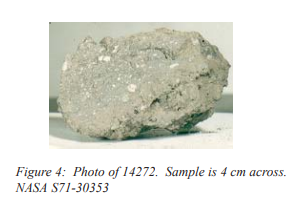Breccia: (51, 28, 228, 138), (121, 51, 216, 135), (62, 60, 163, 125)
